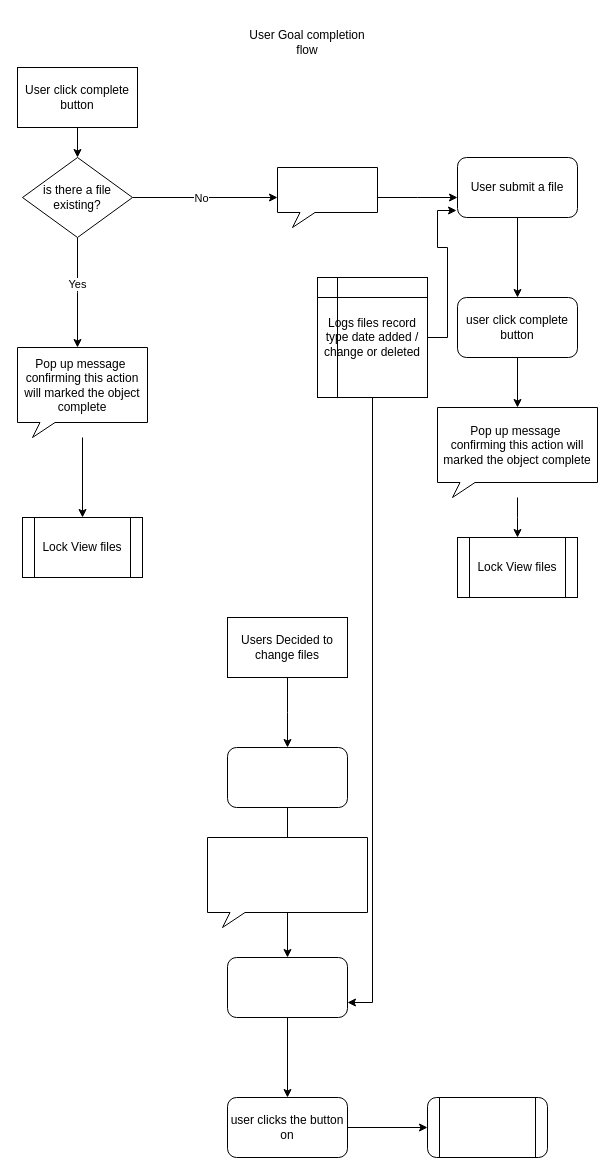
Some shapes in this 615 by 1175 pixel diagram are drawn without their labels. Each missing label, with the box of its shape:
Lock the file view: (426, 1096, 548, 1158)
Pop up a file is needed to complete: (276, 166, 378, 228)
Pop up message confirming this action will marked the object incomplete: (206, 836, 368, 928)
user click complete button off: (226, 746, 348, 808)
user submit new files: (226, 956, 348, 1018)
